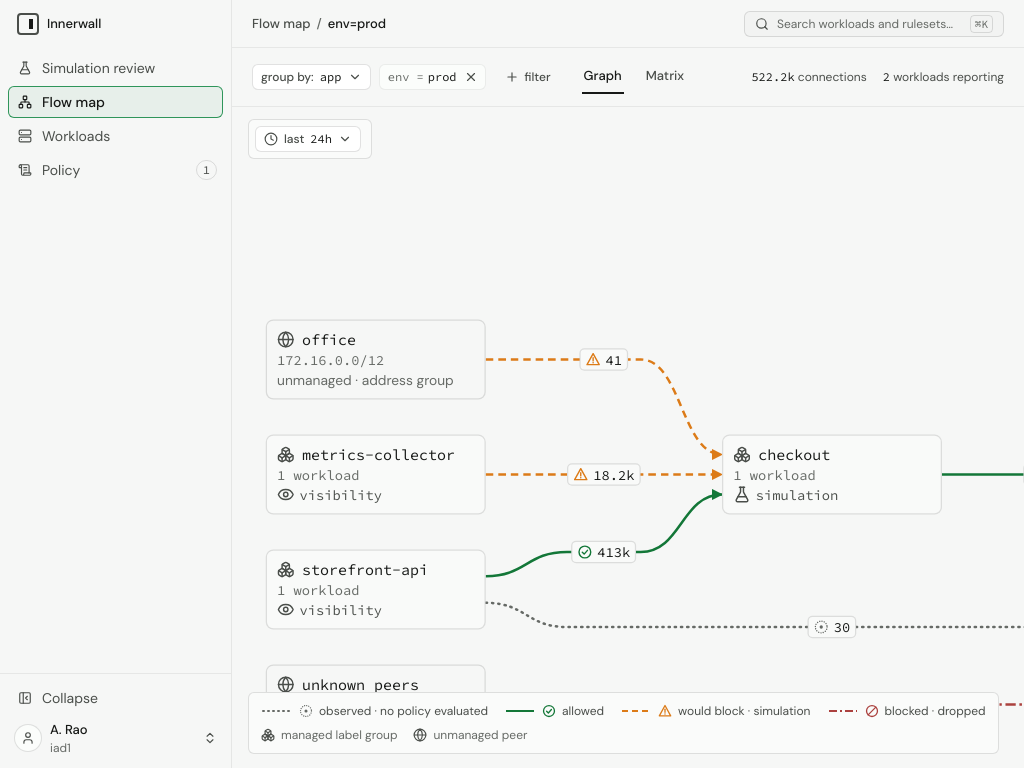
flow map › links an admitted pair to the rule its windows name
What coordinates should you click on to do the following:
click the button named "storefront-api to checkout: allowed"
I would click on:
 (604, 552)
Its box is [571,541,637,563].
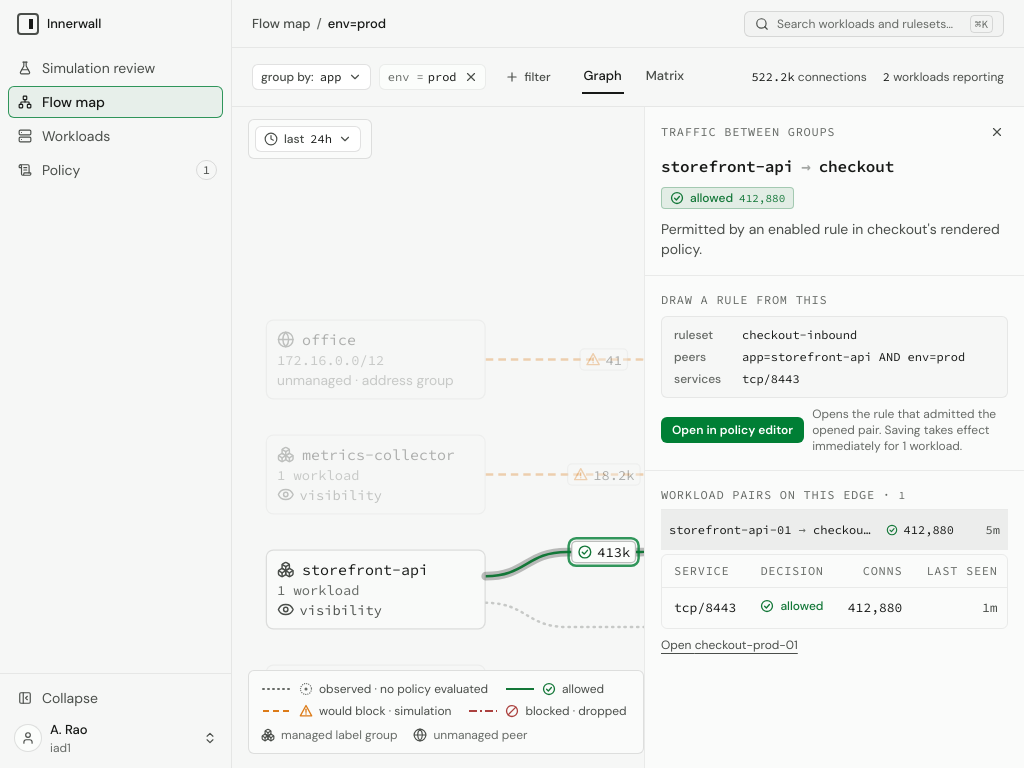
Now the text with test id "editor-effect" shows "Opens the rule that admitted the opened pair.", box [812,406,996,454]
